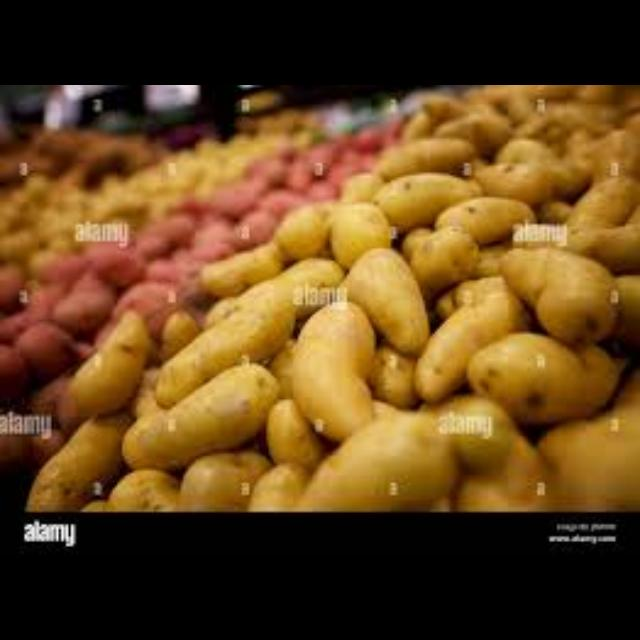Defected potato: (86, 236, 144, 286), (238, 207, 276, 247)
Potato: (294, 292, 378, 438), (346, 244, 432, 356)
